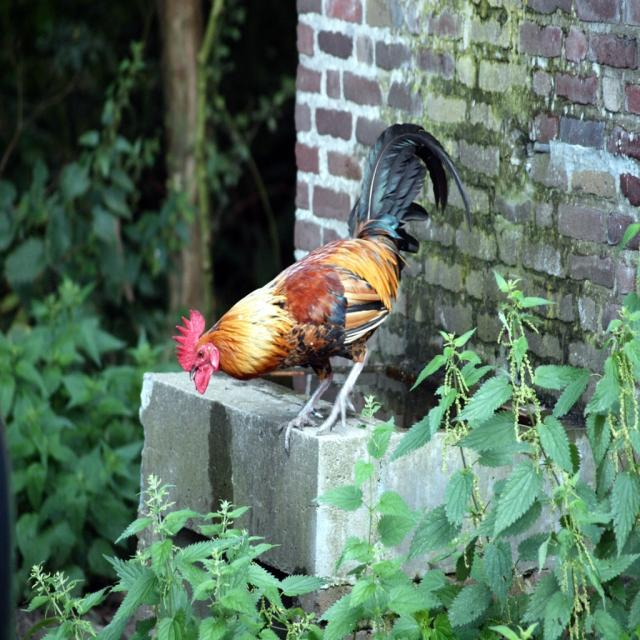Chicken: (171, 124, 478, 452)
